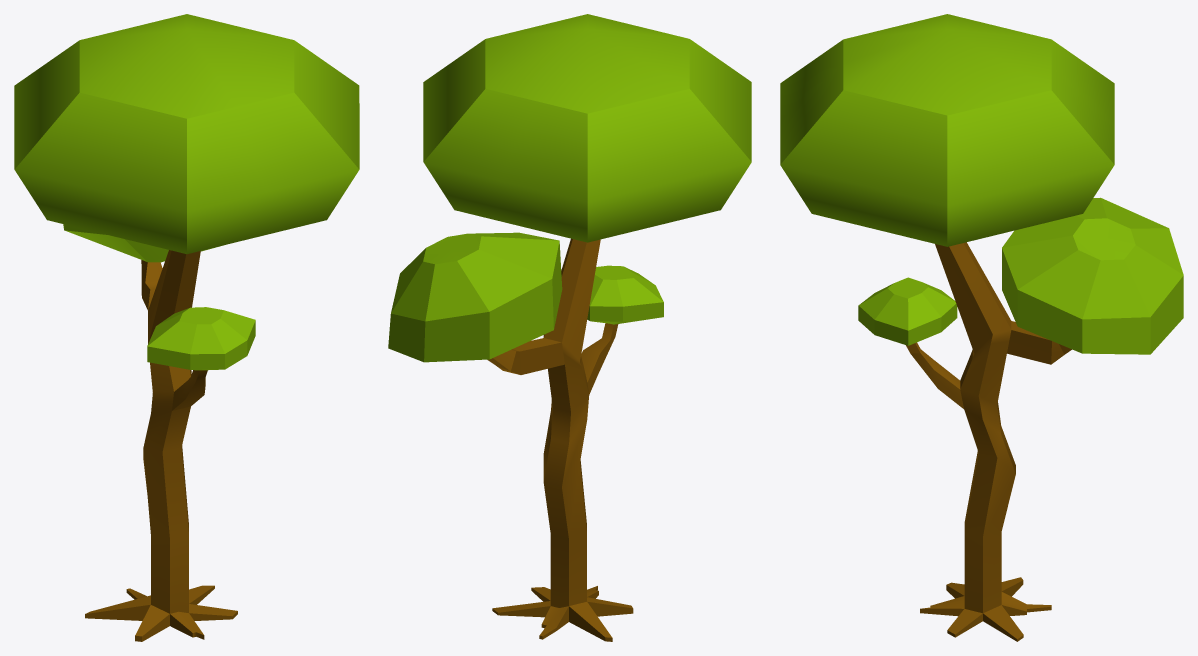
File: Tree_01.fbx
The picture shows the model from 3 angles, left to right: view 1: azimuth 30°, elevation 25°; view 2: azimuth 150°, elevation 25°; view 3: azimuth 270°, elevation 25°; orthographic projection. The views are drawn at different scales.
Visible parts, largest first — view 1: polySurface3; view 2: polySurface3; view 3: polySurface3.
Boxes of the visible parts, box(x1,y1,x2,y2) form: polySurface3: box(14, 14, 359, 641); polySurface3: box(388, 14, 751, 641); polySurface3: box(780, 14, 1183, 641).
Bounding box in the file's own units: 18.07 × 30.07 × 18.88.
